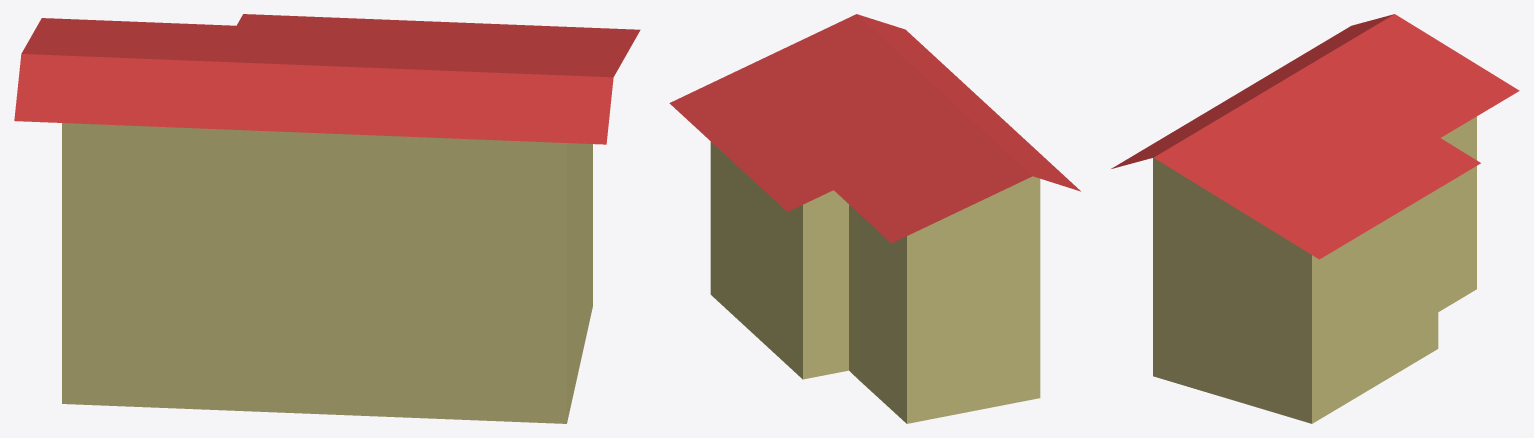
3 views of the same model, side by side, from view 1: azimuth 30°, elevation 25°; view 2: azimuth 150°, elevation 25°; view 3: azimuth 270°, elevation 25° (orthographic). The views are drawn at different scales.
Bounding box in the file's own units: 11.89 × 9.97 × 6.3.
